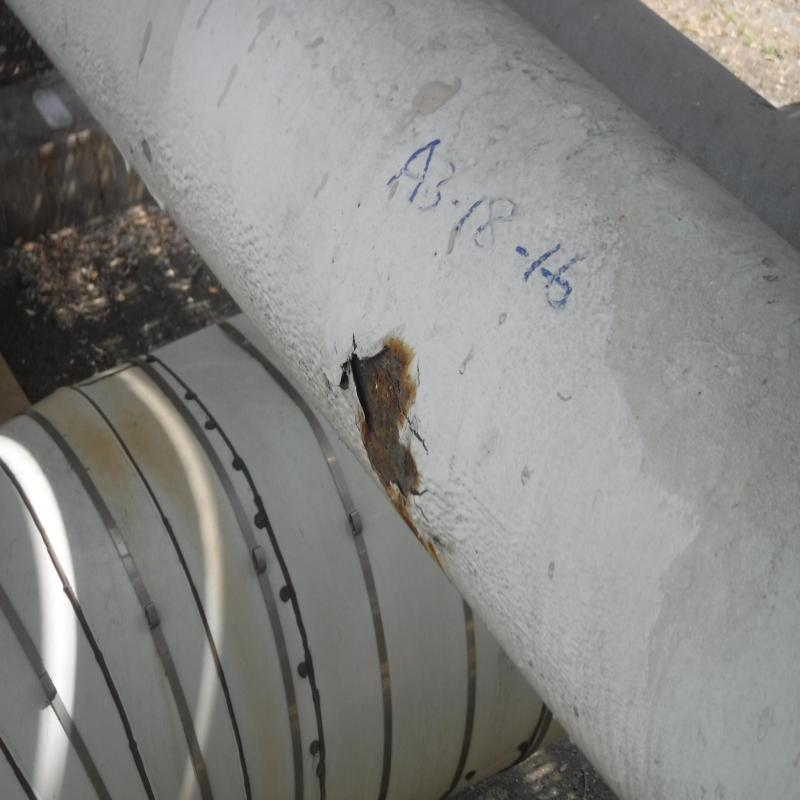corrosion: (357, 344, 414, 458)
